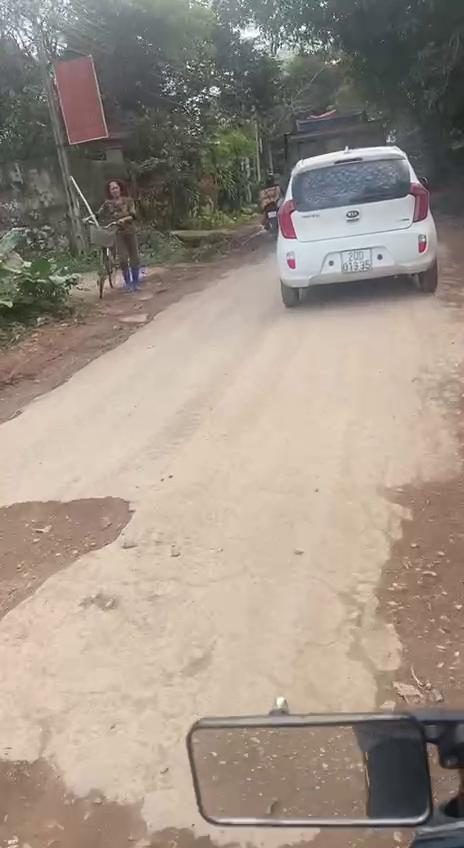pothole: (373, 476, 464, 712), (0, 484, 143, 631), (0, 757, 199, 848)
